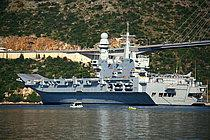MIL_Ship: (16, 29, 207, 106)
